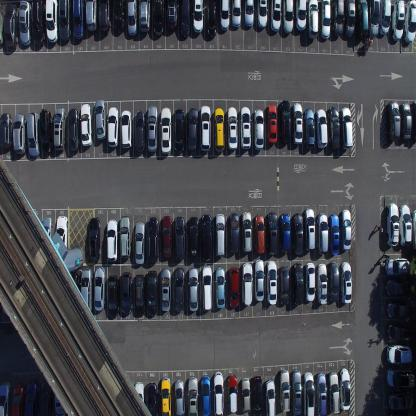car: (31, 0, 45, 47), (4, 2, 18, 49), (39, 107, 53, 154), (55, 214, 69, 260), (386, 367, 416, 388), (160, 106, 173, 154), (80, 267, 93, 315), (18, 0, 31, 48), (386, 203, 400, 247), (93, 266, 106, 312), (67, 108, 80, 154), (147, 216, 159, 265), (391, 0, 405, 42), (58, 0, 72, 42), (27, 111, 39, 159), (12, 113, 26, 154), (316, 211, 329, 255), (399, 204, 412, 248), (386, 342, 412, 364), (403, 0, 416, 44), (188, 215, 200, 262), (186, 107, 198, 154), (388, 389, 416, 409), (340, 106, 353, 148), (67, 272, 80, 314), (266, 211, 278, 256), (279, 99, 291, 144), (328, 105, 340, 150), (134, 220, 146, 265), (121, 271, 133, 316), (106, 218, 118, 263), (88, 216, 100, 261), (80, 103, 92, 148), (53, 106, 65, 151), (200, 213, 211, 262), (94, 99, 107, 140), (387, 300, 411, 322), (340, 260, 352, 304), (147, 269, 158, 317), (119, 215, 131, 259), (212, 372, 224, 416), (278, 368, 290, 412), (303, 372, 315, 416), (339, 367, 351, 411), (147, 105, 158, 153), (319, 0, 332, 40), (267, 261, 278, 308), (200, 105, 211, 152), (46, 0, 58, 43), (107, 105, 119, 148), (384, 257, 411, 276), (384, 278, 411, 297), (214, 212, 225, 258), (162, 214, 173, 260), (174, 108, 185, 154), (174, 215, 185, 261), (174, 267, 185, 313), (291, 370, 302, 416), (279, 212, 291, 254), (266, 103, 278, 145), (316, 108, 328, 150), (328, 261, 340, 303), (316, 262, 328, 304), (39, 379, 53, 415), (134, 110, 146, 152), (227, 106, 238, 151), (214, 107, 225, 152), (201, 265, 212, 310), (42, 215, 53, 260), (53, 378, 66, 416), (331, 0, 344, 38), (72, 0, 85, 38), (340, 209, 352, 250), (388, 101, 400, 142), (25, 380, 39, 415), (386, 323, 413, 341), (241, 263, 252, 307), (254, 260, 265, 304), (292, 212, 303, 256), (304, 207, 315, 251), (240, 105, 251, 149), (292, 102, 303, 146), (304, 107, 315, 151), (229, 212, 240, 256), (135, 272, 146, 316), (108, 274, 119, 318), (316, 372, 327, 416), (328, 371, 339, 415), (356, 0, 369, 37), (400, 101, 412, 141), (304, 262, 316, 302), (187, 376, 199, 416), (344, 0, 356, 40), (241, 211, 252, 254), (228, 266, 239, 309), (214, 266, 225, 309), (292, 262, 303, 305), (205, 0, 217, 39), (0, 111, 12, 150), (253, 108, 264, 150), (138, 0, 152, 33), (368, 0, 380, 38), (121, 109, 132, 150), (188, 267, 198, 312), (161, 267, 171, 312), (11, 383, 25, 415), (113, 0, 126, 34), (254, 214, 265, 254), (160, 376, 171, 416), (200, 375, 211, 415), (227, 374, 238, 414), (307, 0, 318, 40), (152, 0, 164, 36), (85, 0, 98, 33), (330, 213, 340, 255), (0, 380, 12, 415), (264, 380, 276, 415), (378, 0, 390, 35), (174, 378, 185, 416), (133, 381, 145, 415), (270, 0, 282, 34), (192, 0, 204, 34), (252, 375, 262, 415), (146, 382, 158, 415), (127, 0, 138, 36), (99, 0, 111, 33), (283, 0, 294, 35), (180, 0, 190, 38), (280, 264, 289, 306), (240, 377, 250, 413), (166, 0, 178, 30), (296, 0, 307, 32), (219, 0, 230, 30), (257, 0, 267, 29), (244, 0, 254, 28), (231, 0, 241, 27), (410, 209, 416, 253), (0, 3, 4, 48), (412, 99, 416, 139)
